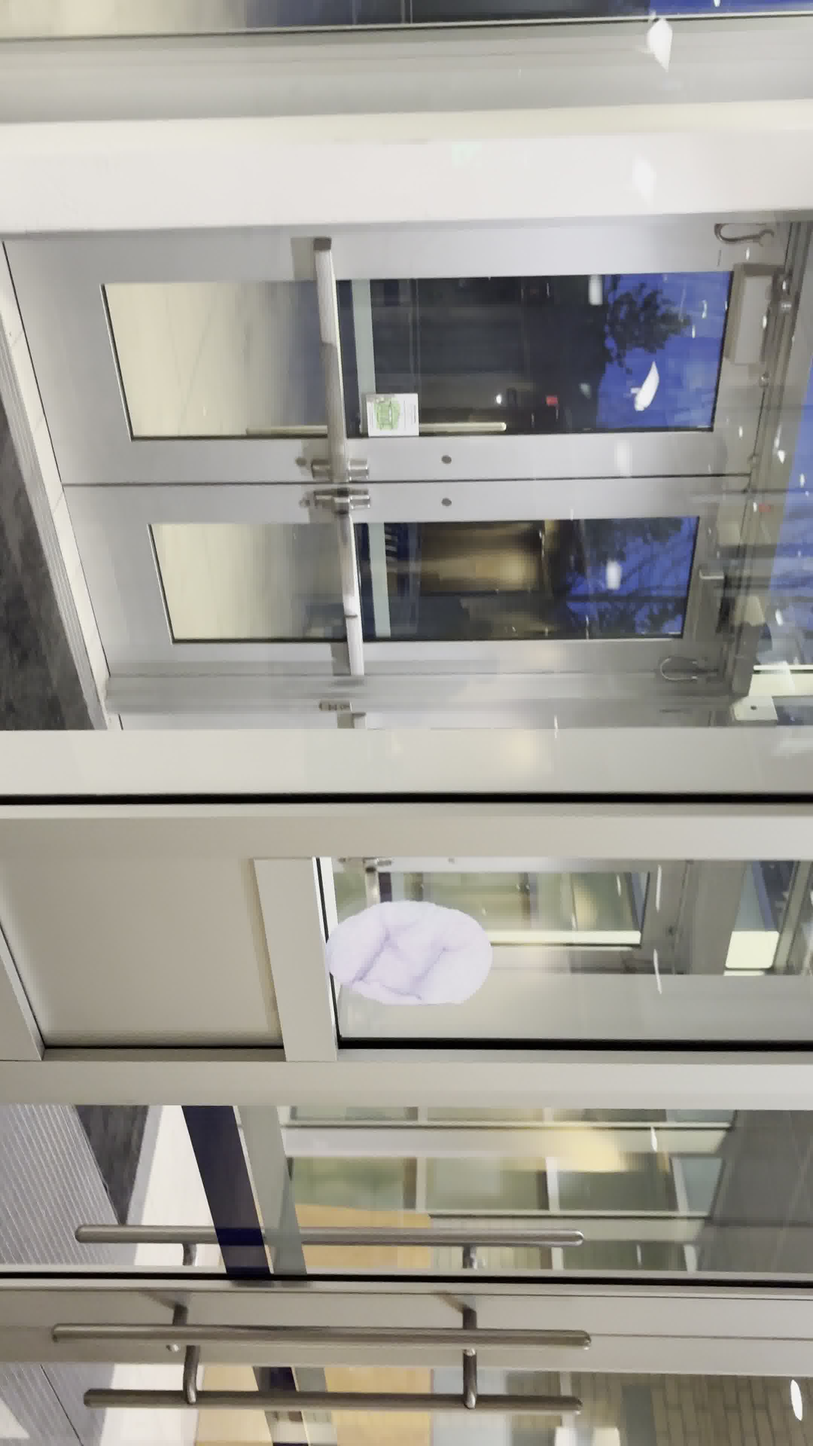Target: (319, 894, 499, 1012)
